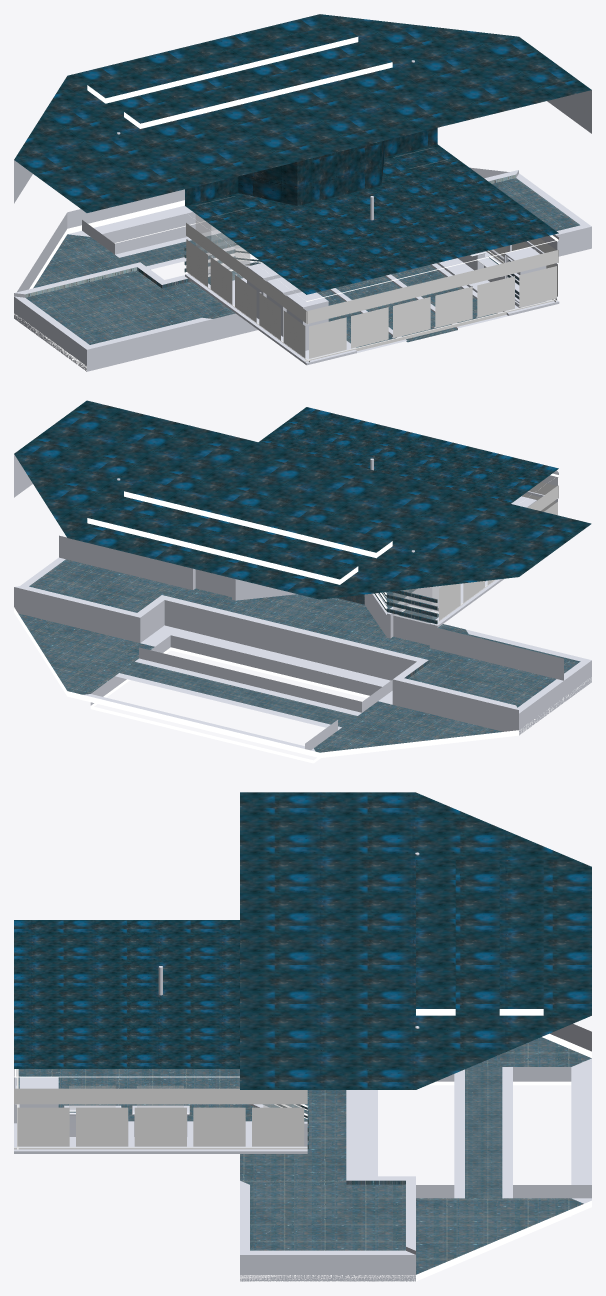
The model's file is space-station-vr2.glb.
3 views of the same model, one above another, from view 1: azimuth 30°, elevation 25°; view 2: azimuth 150°, elevation 25°; view 3: azimuth 270°, elevation 25° (orthographic). The views are drawn at different scales.
Parts seen in each view (by area): view 1: TopWalls, Celing, LowerDeck, Walls, Floor, FrontWalls, Teleports, Server.002, Server.003, Server, Server.001, Barrier; view 2: TopWalls, LowerDeck, Celing, Floor, FrontWalls, Walls, Barrier, Teleports; view 3: TopWalls, LowerDeck, Celing, Walls, Floor, FrontWalls, Server.003.
Part boxes in pixels (x1,y1,x2,y2): TopWalls: (14,14,591,212); Celing: (185,127,558,294); LowerDeck: (14,170,591,371); Walls: (186,223,558,362); Floor: (185,251,559,365); FrontWalls: (14,90,591,370); Teleports: (195,148,447,284); Server.002: (286,292,328,350); Server.003: (504,247,546,307); Server: (247,263,281,318); Server.001: (266,277,301,336); Barrier: (184,237,262,272); TopWalls: (14,400,591,599); LowerDeck: (14,557,591,763); Celing: (258,407,558,503); Floor: (59,535,563,680); FrontWalls: (14,454,591,757); Walls: (434,470,558,624); Barrier: (374,590,437,624); Teleports: (393,585,442,623); TopWalls: (240,792,591,1089); LowerDeck: (240,1037,591,1281); Celing: (14,920,239,1068); Walls: (14,1069,307,1149); Floor: (14,1069,307,1153); FrontWalls: (240,1024,591,1281); Server.003: (19,1077,58,1107).
Size of the model in its own units: 24 by 8.14 by 19.7.
Materials: 6 (2 with a texture image).
